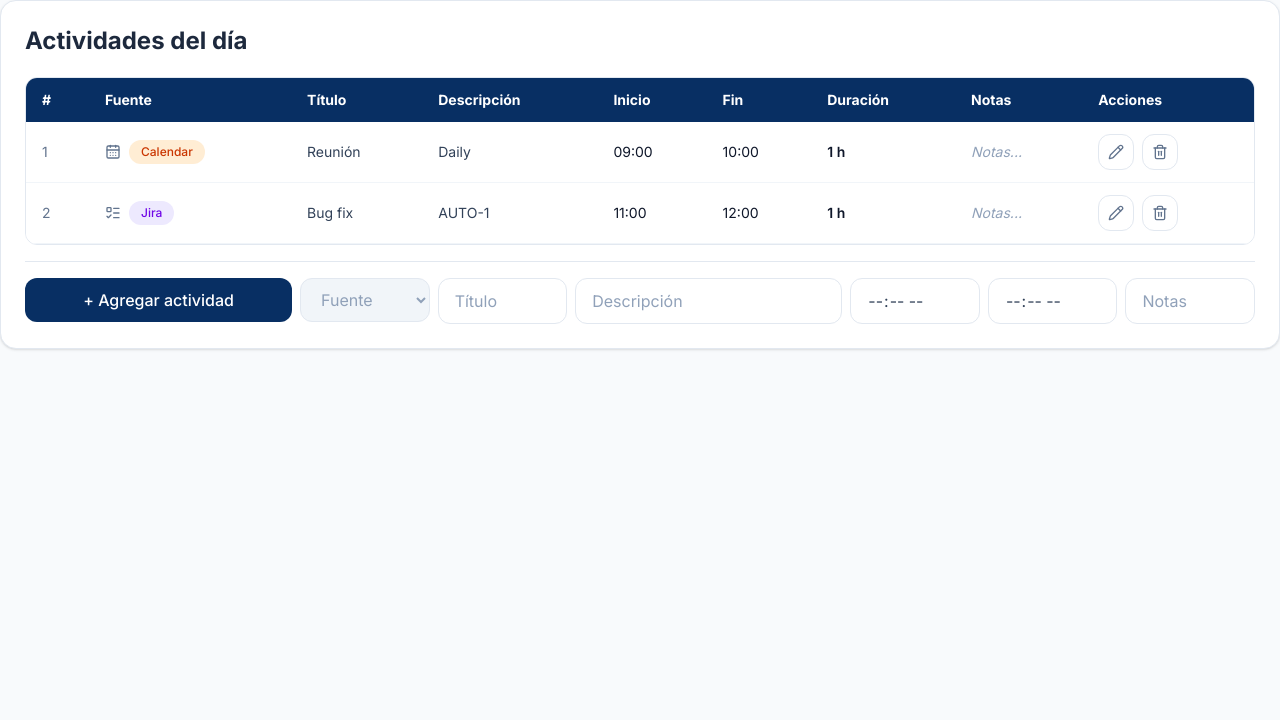
ActivitiesTable › opens, confirms and removes the activity via the delete modal
Click the button named "eliminar actividad" in the row of "Calendar": [1160, 152] box x1=1142 y1=134 x2=1178 y2=170
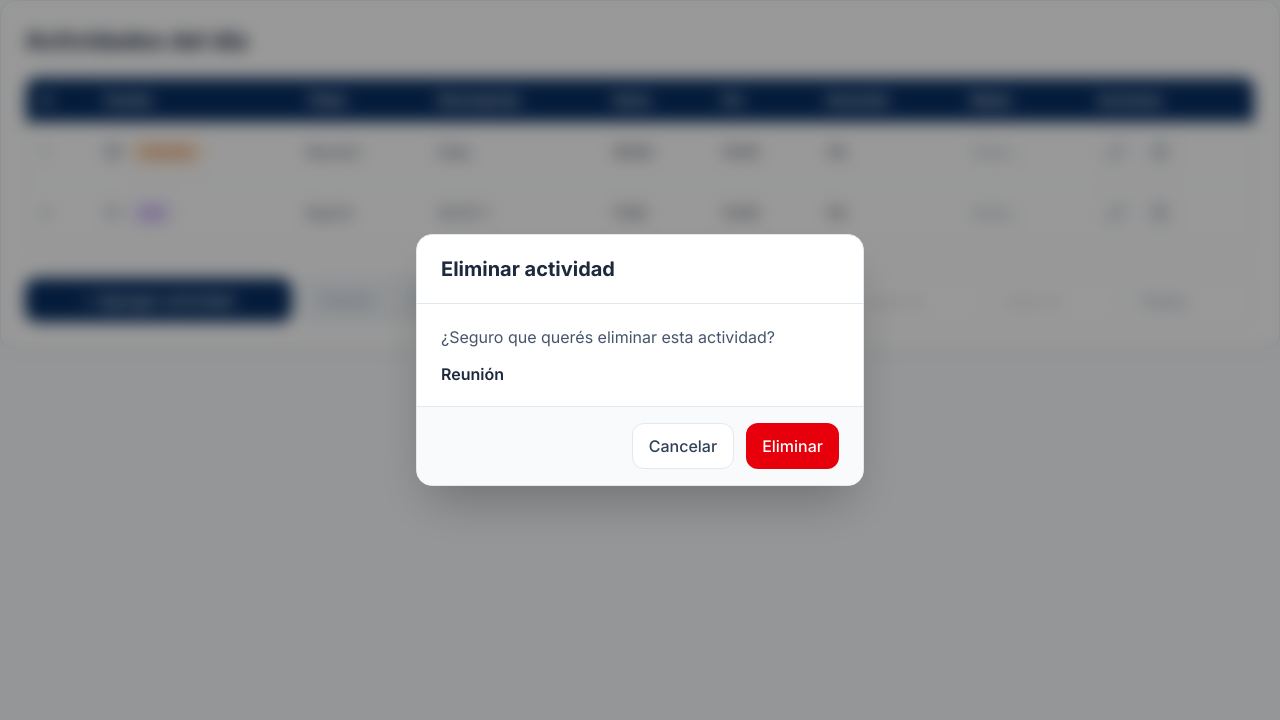
Check: the dialog is shown, box x1=416 y1=234 x2=864 y2=486
Check: the heading "Eliminar actividad" is shown, box x1=441 y1=257 x2=615 y2=281
Click the button "Eliminar": [793, 446] box x1=746 y1=423 x2=839 y2=469
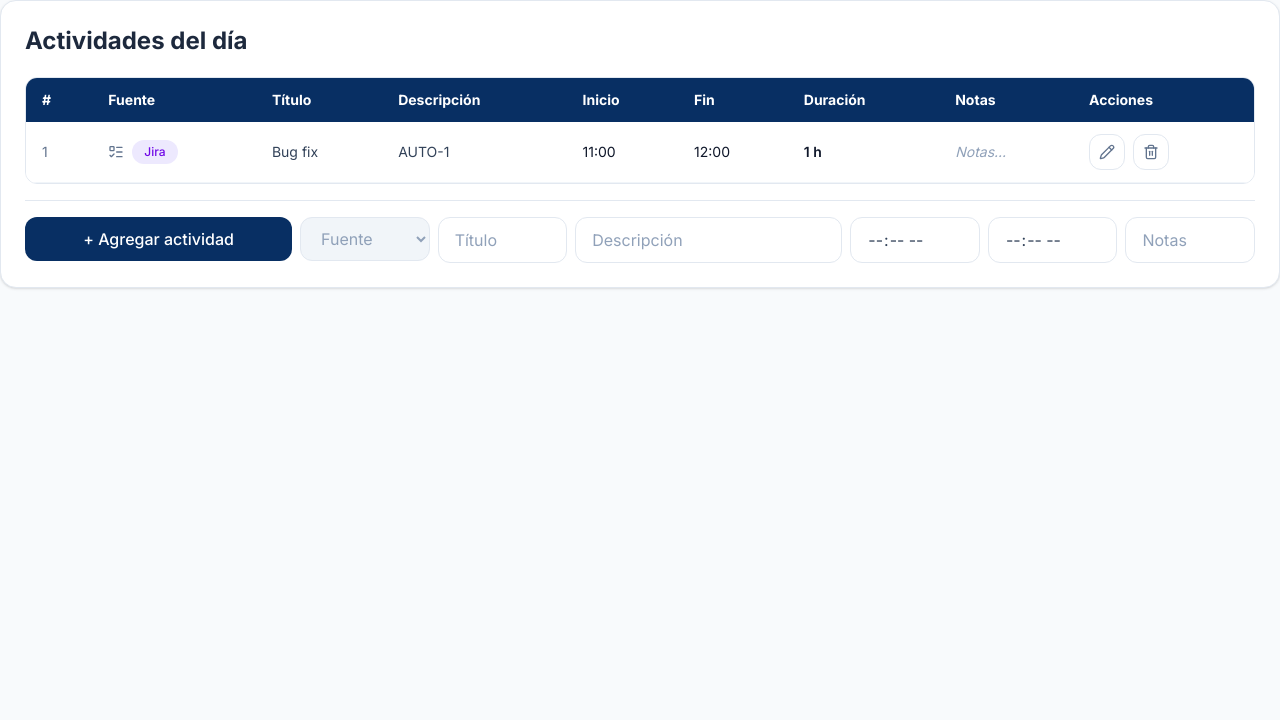
Check: the dialog is gone
